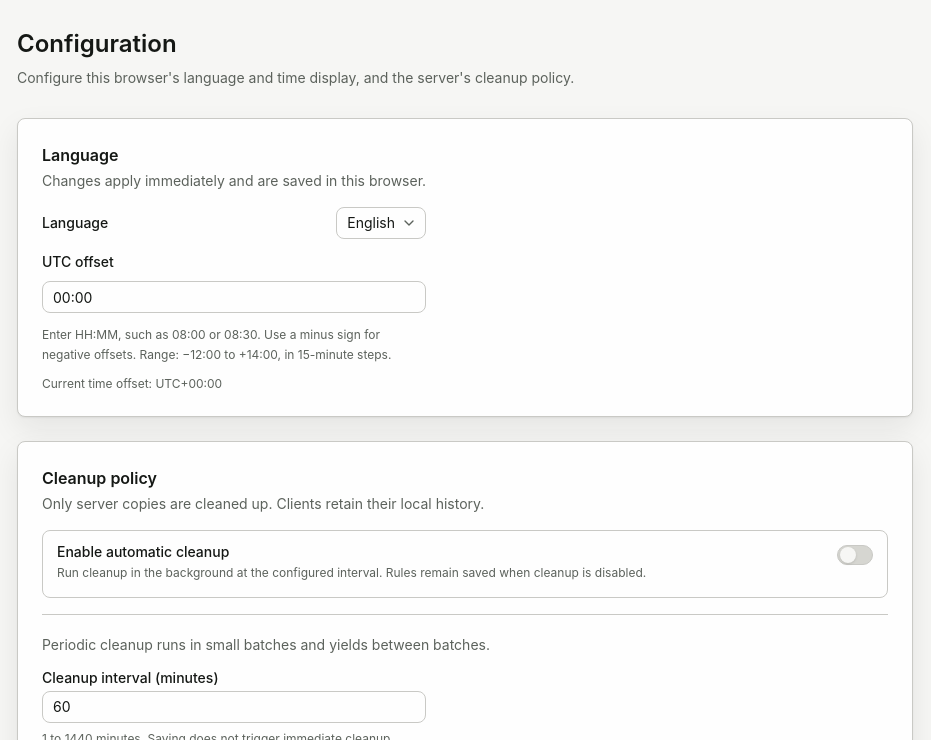
Test case: cleanup submission reports validation and server failures while preserving the form
Replace the text in the number field labelled "Cleanup interval (minutes)" with "0.5": (234, 706) [42,690,426,722]
(page scrolled)
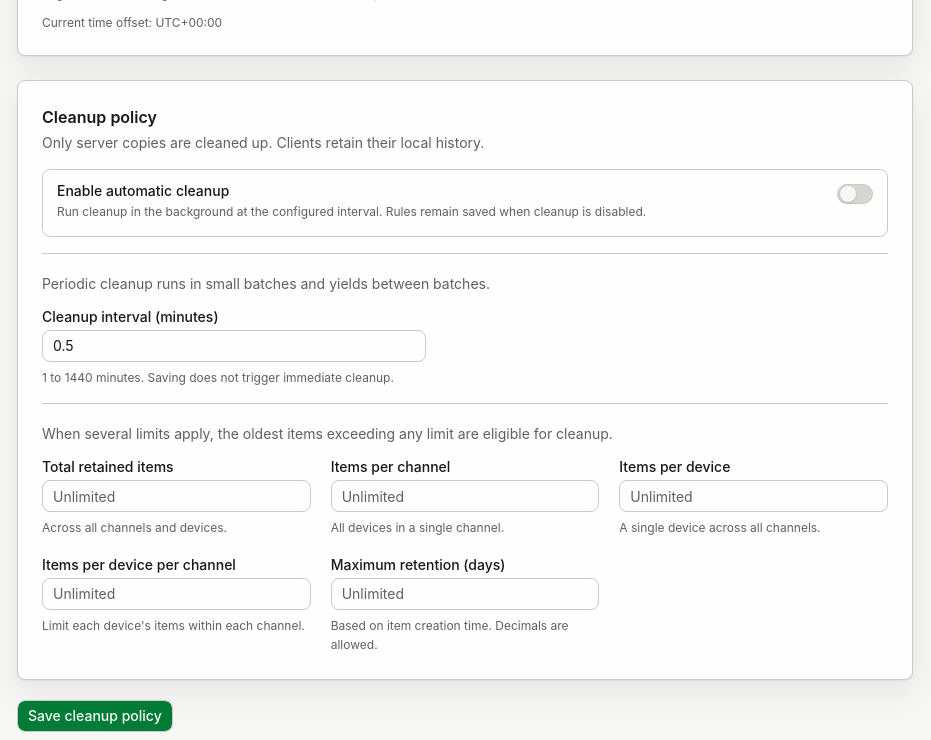
Submit the form named "Save cleanup policy"
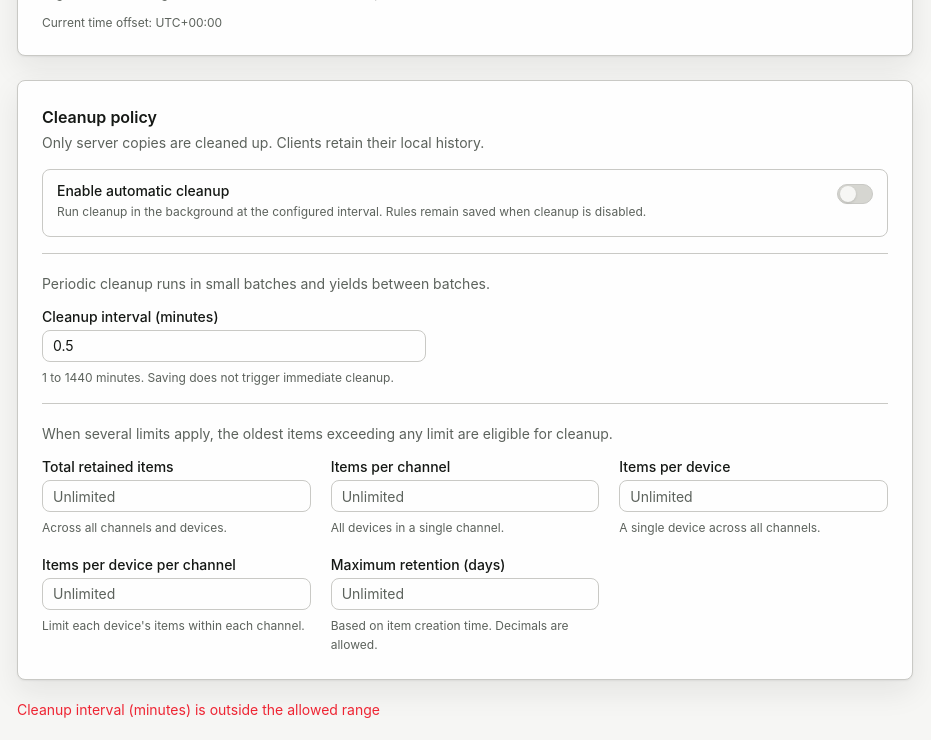
Replace the text in the number field labelled "Cleanup interval (minutes)" with "60": (234, 346) [42,330,426,362]
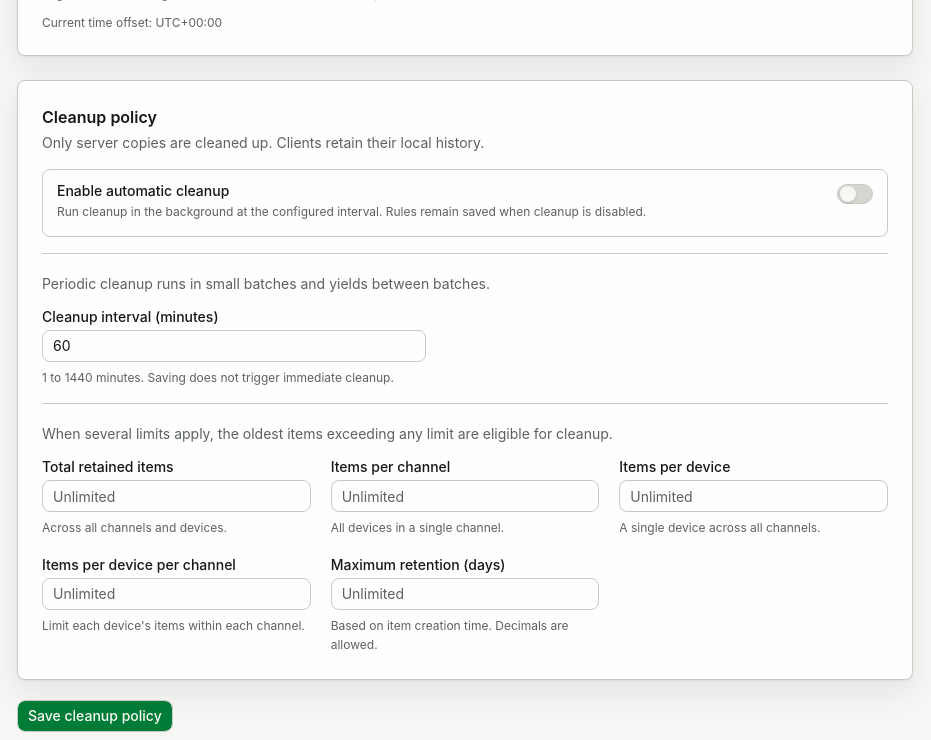
Submit the form named "Save cleanup policy"
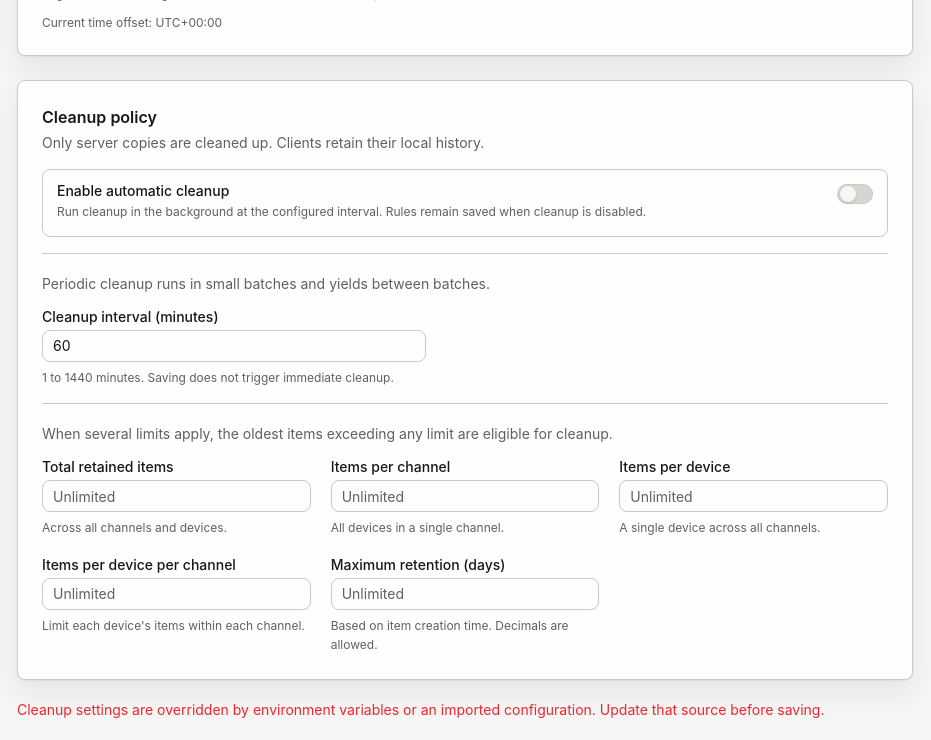
expect the message shows "Cleanup settings are overridden": met, box [17,700,824,718]
